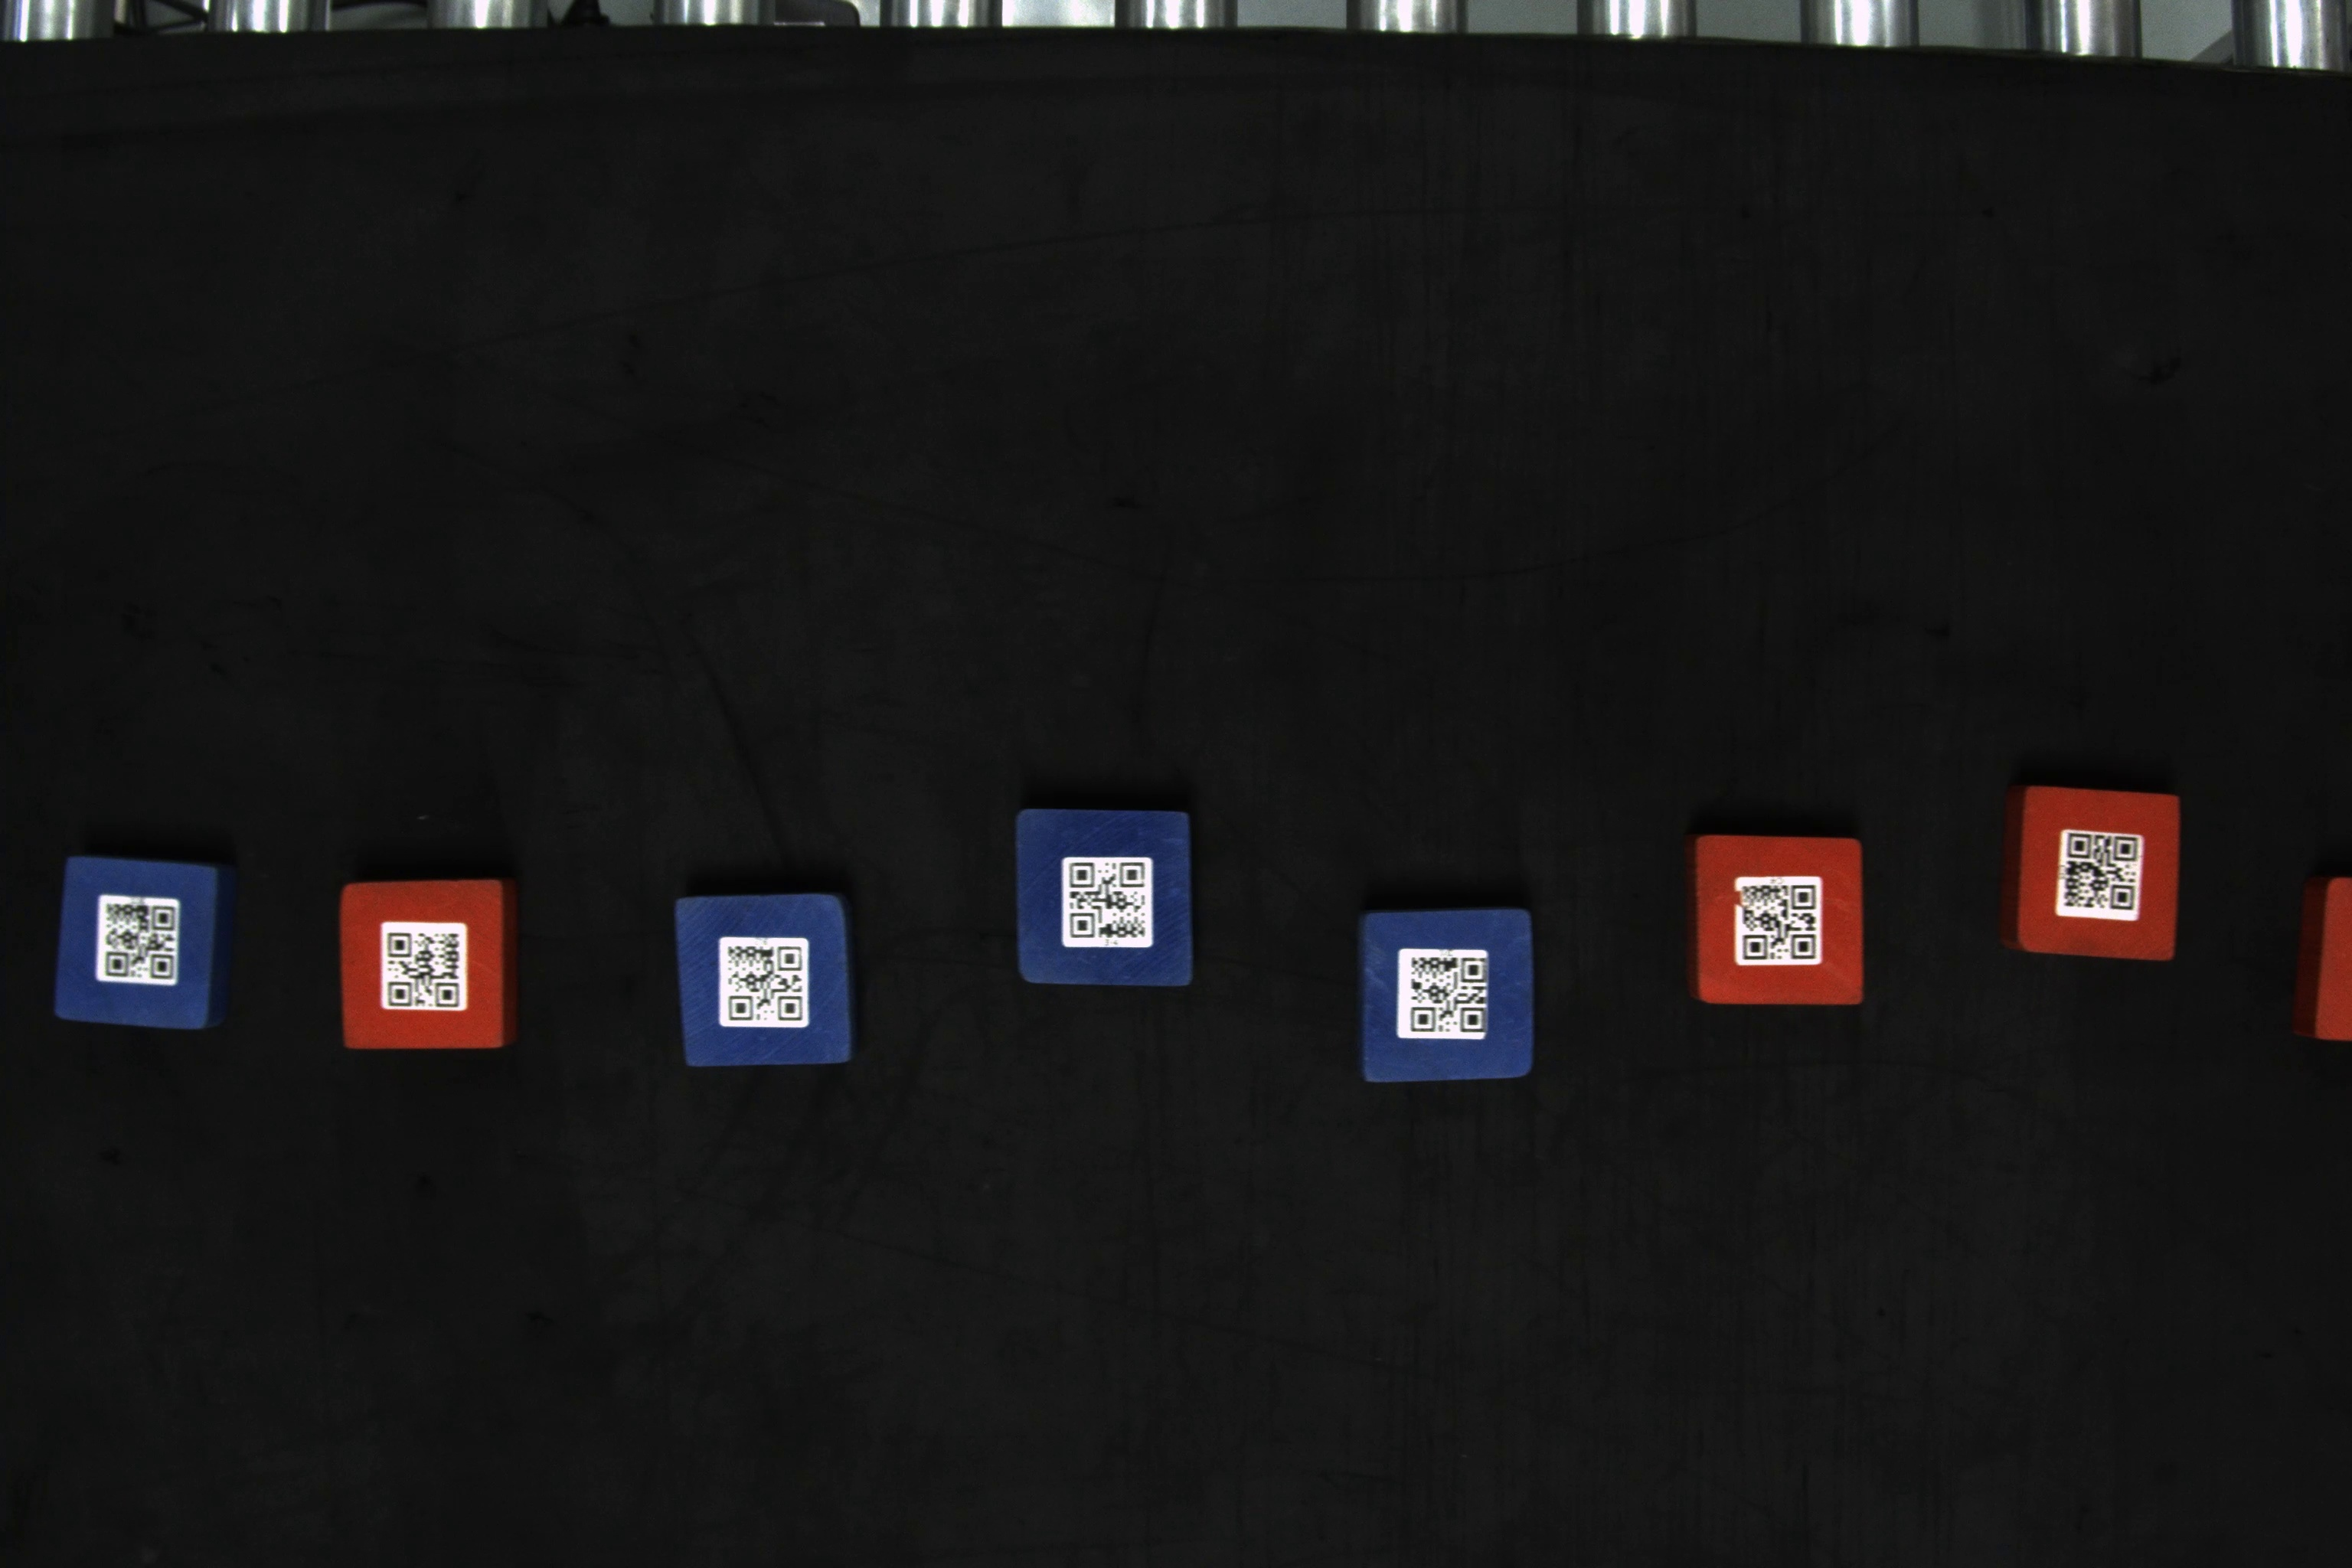wood: (1011, 801, 1204, 992), (1356, 896, 1542, 1094), (1680, 829, 1871, 1018), (1997, 779, 2186, 968), (33, 852, 229, 1032), (331, 875, 521, 1059), (668, 891, 857, 1071)
